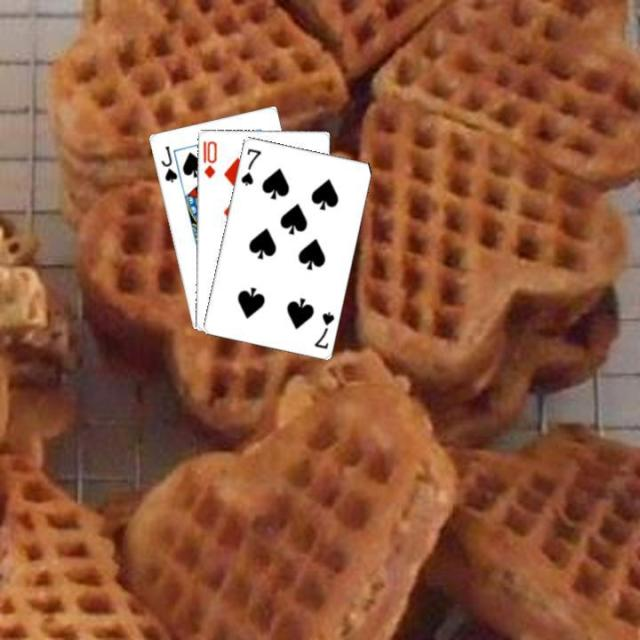10D: (199, 137, 218, 179)
7S: (236, 144, 262, 187), (310, 308, 336, 350)
JS: (156, 142, 178, 184)
